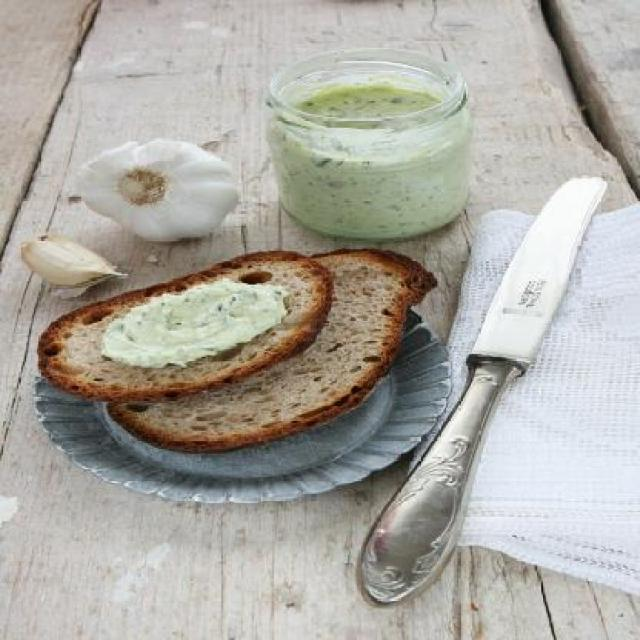Spread: (102, 280, 290, 374)
